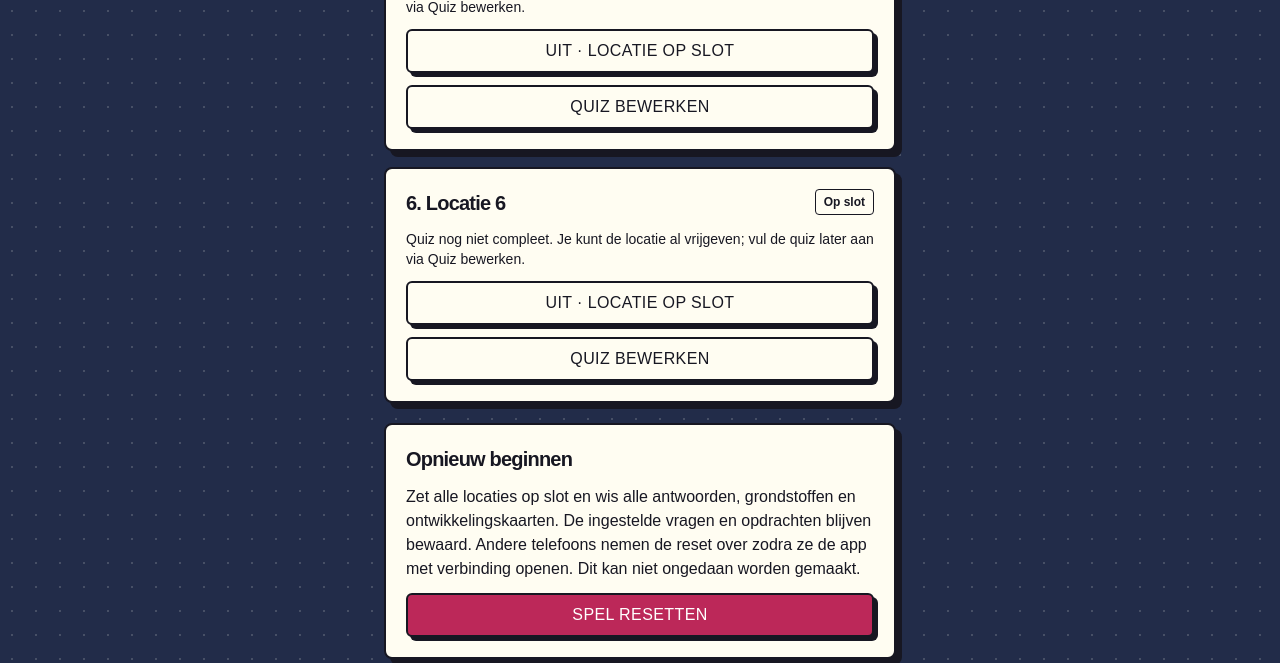
allows releasing all six locations without completed quizzes
This screenshot has width=1280, height=663.
(page scrolled)
Expected: the switch labelled "Uit · locatie op slot" below "Locatie 5" is enabled, [406,29,874,73]
Step 1. Click the switch labelled "Uit · locatie op slot" below "Locatie 6" → (640, 303), box [406,281,874,325]
(page scrolled)
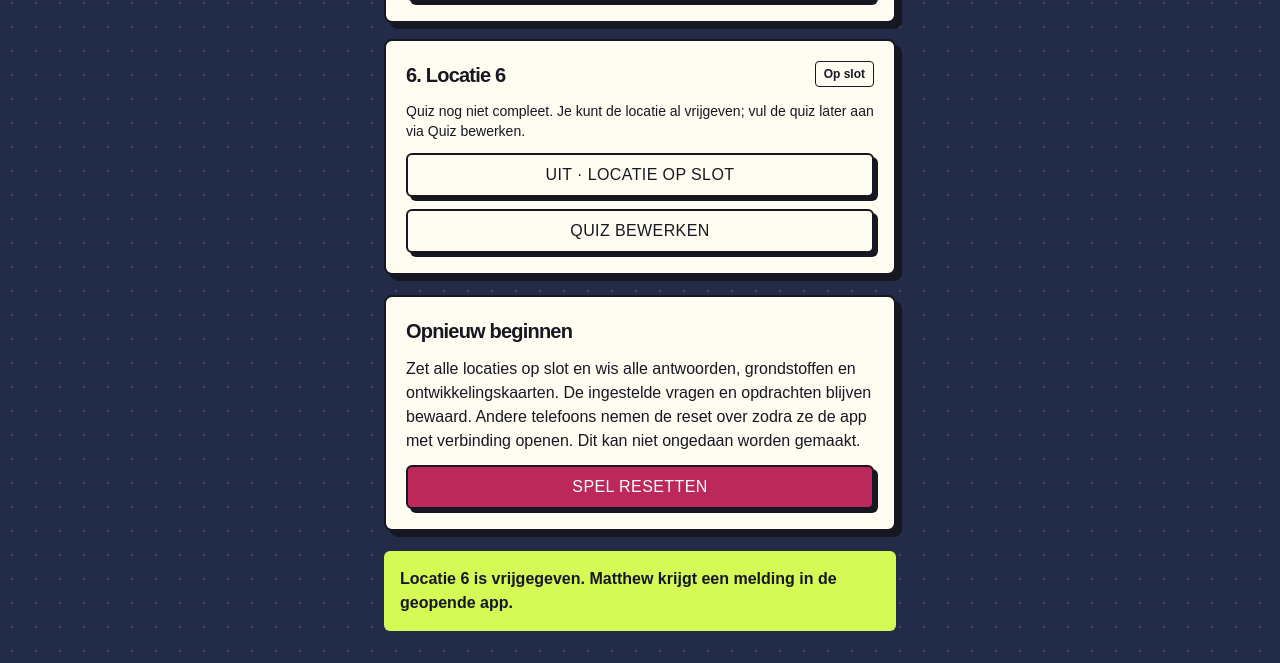
Expected: the message shows "Locatie 6 is vrijgegeven", [400,570,837,611]
